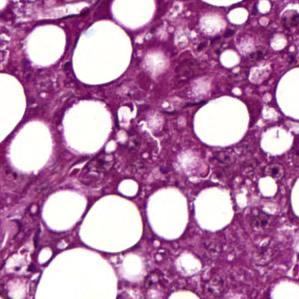steatosis: (75, 22, 133, 89), (192, 96, 251, 150), (61, 102, 113, 154)
